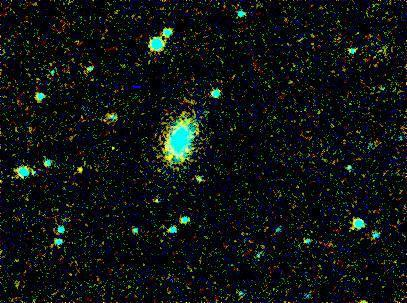star: (65, 155, 95, 185)
